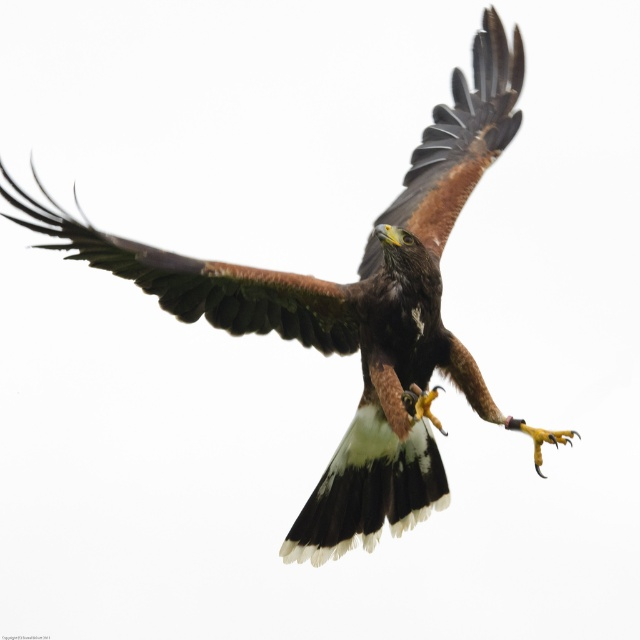Eagle: (0, 0, 584, 577)
